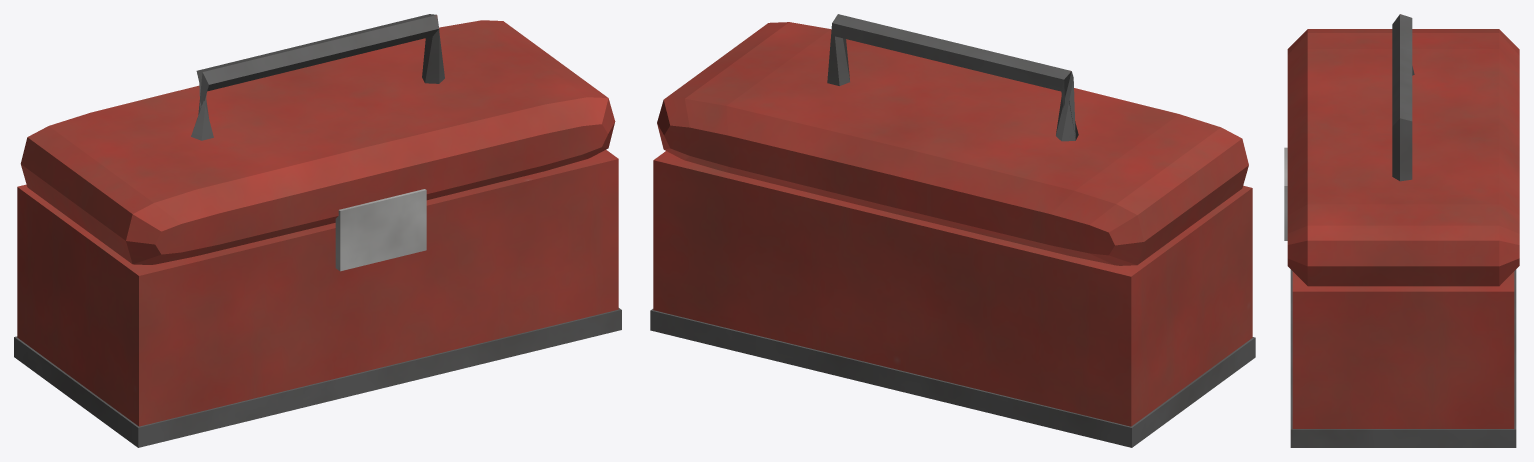
Rendered from toolbox.glb.
3 renders of one model, left to right at view 1: azimuth 30°, elevation 25°; view 2: azimuth 150°, elevation 25°; view 3: azimuth 270°, elevation 25°, orthographic. The views are drawn at different scales.
Visible parts, largest first — view 1: toolbox.001; view 2: toolbox.001; view 3: toolbox.001.
Part boxes in pixels (left/top/right/bottom): toolbox.001: left=14, top=14, right=621, bottom=447; toolbox.001: left=650, top=14, right=1255, bottom=447; toolbox.001: left=1284, top=14, right=1519, bottom=447.
Size of the model in its own units: 0.51 by 0.3002 by 0.233.
Materials: 1 (1 with a texture image).
